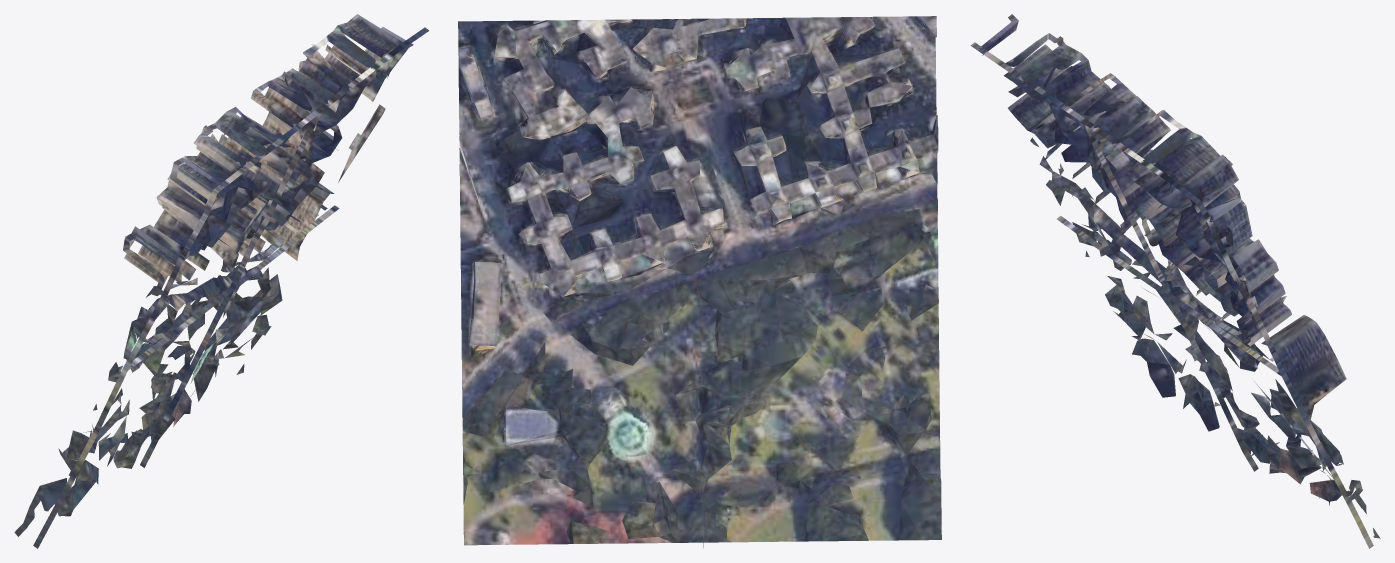
The picture shows the model from 3 angles, left to right: view 1: azimuth 30°, elevation 25°; view 2: azimuth 150°, elevation 25°; view 3: azimuth 270°, elevation 25°; orthographic projection. The views are drawn at different scales.
Size of the model in its own units: 313 by 294 by 262.
Materials: 1 (1 with a texture image).
